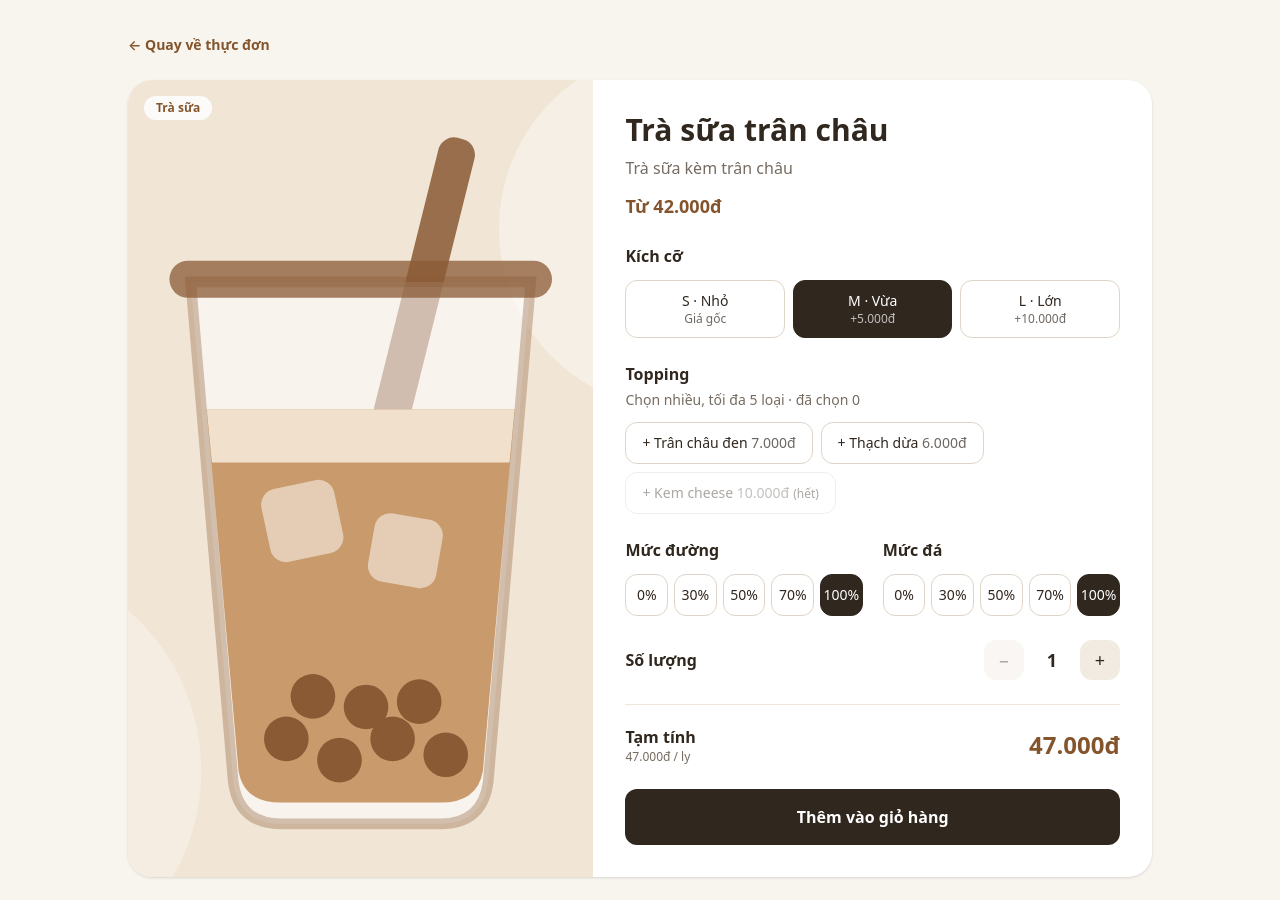
Test: Trang chi tiết món › chọn nhiều topping: giá cộng đủ topping, bỏ chọn được; topping hết nguyên liệu không bấm được
Expected: the heading "Trà sữa trân châu" is shown, [626, 109, 889, 150]
Expected: the text "47.000đ / ly" is shown, [626, 749, 696, 765]
Click the button "+ Trân châu đen 7.000đ" at (719, 443), box [626, 422, 813, 464]
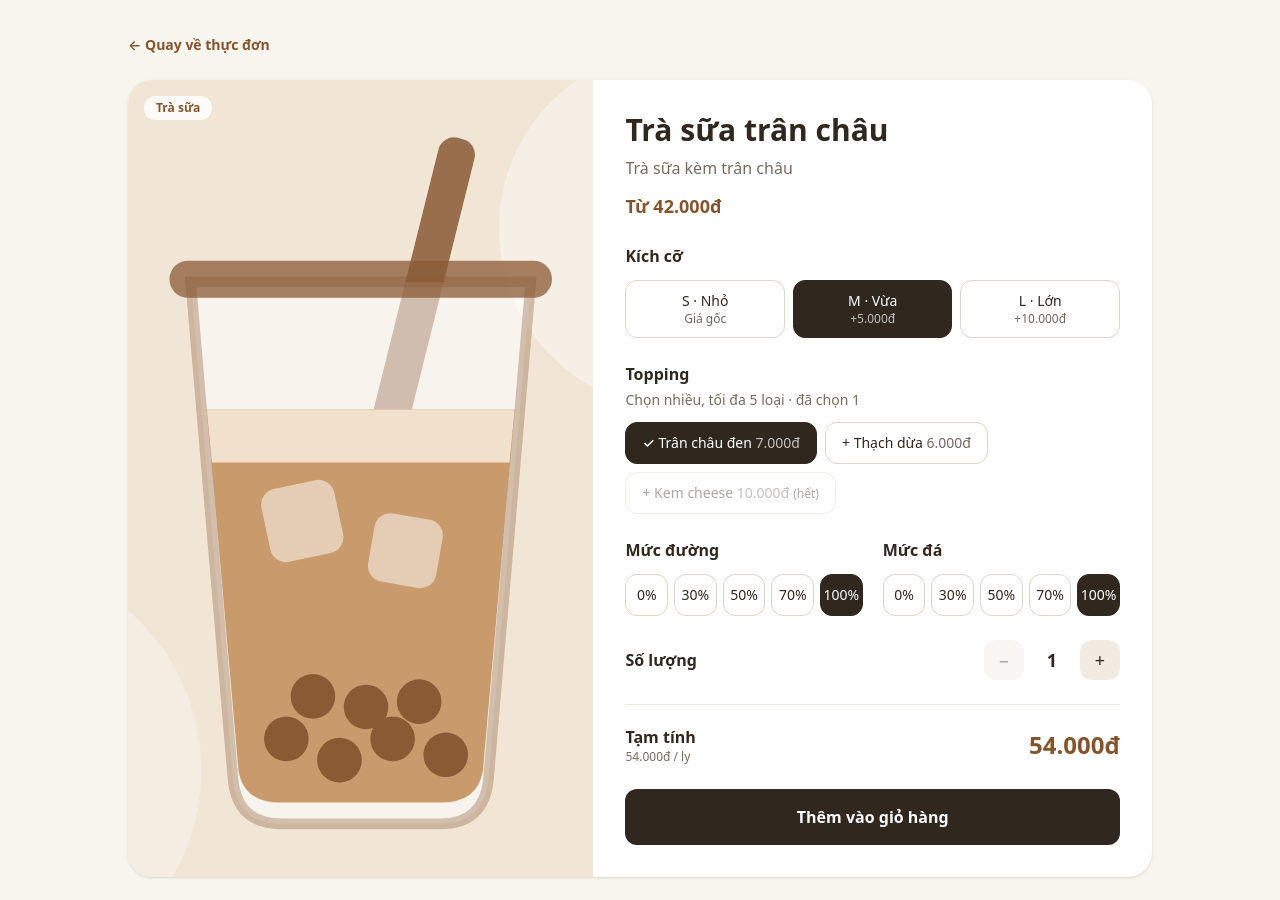
Click the button "+ Thạch dừa 6.000đ" at (906, 443), box [825, 422, 988, 464]
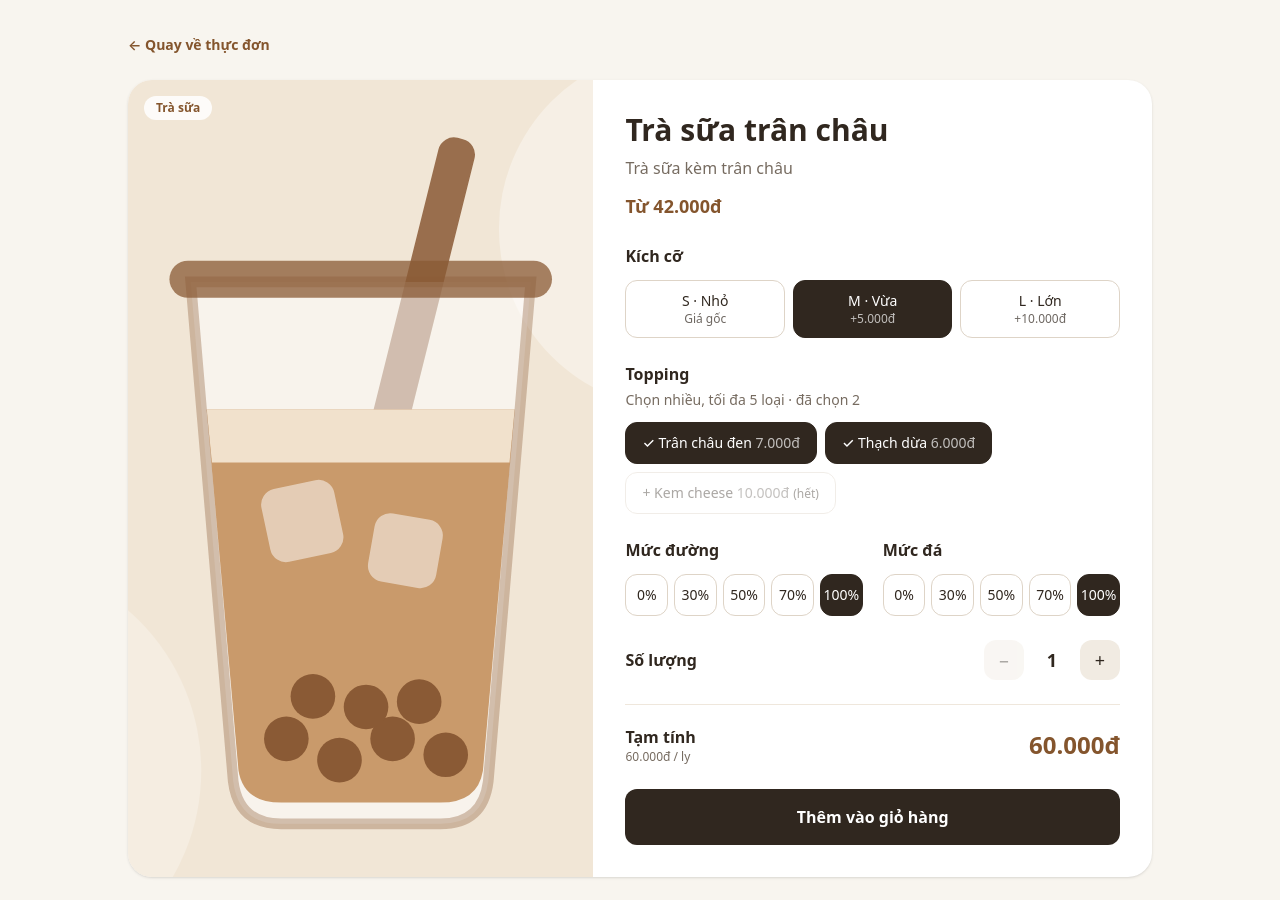
Expected: the button "+ Kem cheese 10.000đ(hết)" is disabled, [626, 472, 836, 514]
Now the text "60.000đ / ly" is shown, box [626, 749, 696, 765]
Now the text "Chọn nhiều, tối đa 5 loại · đã chọn 2" is shown, box [626, 390, 860, 409]
Click the button "✓ Thạch dừa 6.000đ" at (909, 443), box [825, 422, 992, 464]
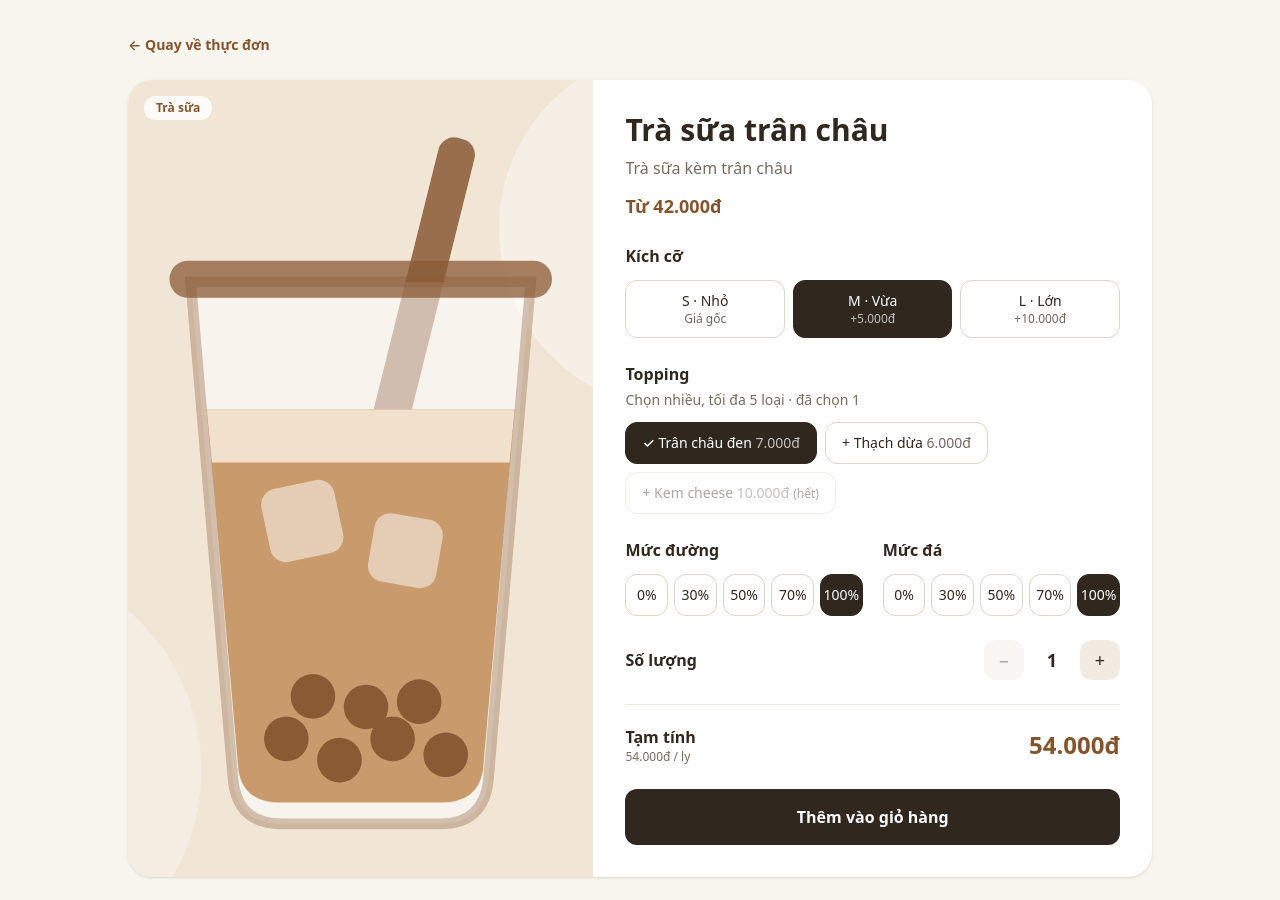
Now the text "54.000đ / ly" is shown, box [626, 749, 696, 765]
